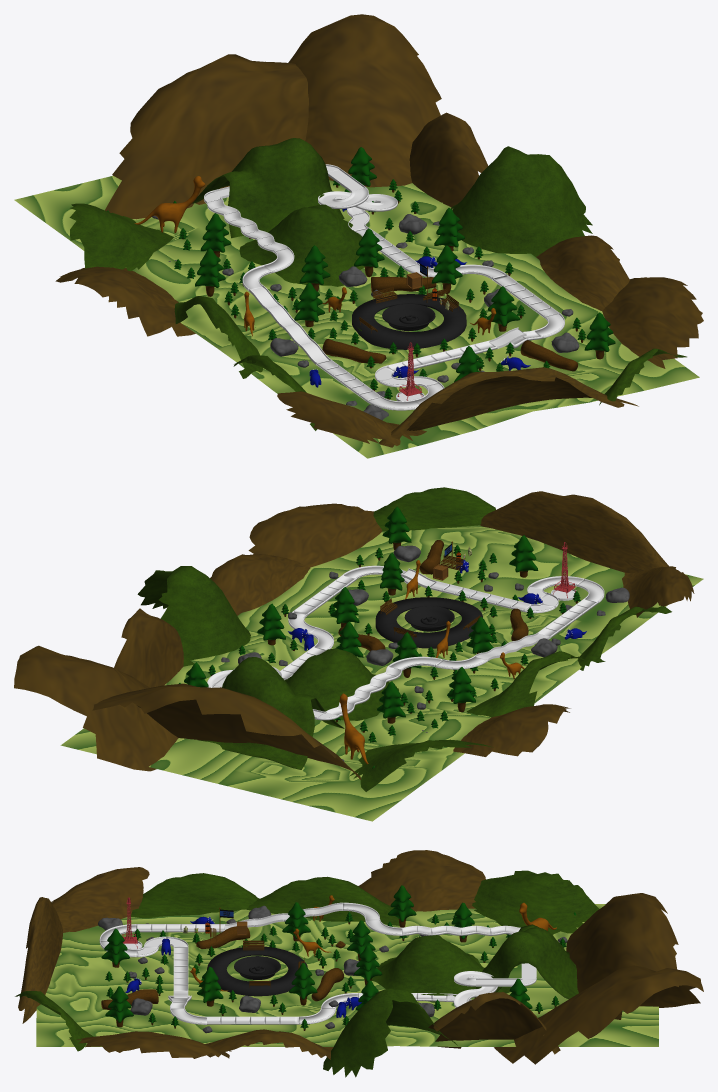
Rendered from PISTA FINAL.fbx.
3 views of the same model, one above another, from view 1: azimuth 30°, elevation 25°; view 2: azimuth 150°, elevation 25°; view 3: azimuth 270°, elevation 25° (orthographic). The views are drawn at different scales.
Visible parts, largest first — view 1: SICA SICA Remeshed.101, SICA SICA Remeshed.155, SICA SICA Remeshed.153, SICA SICA Remeshed.105, SICA SICA Remeshed.154, SICA SICA Remeshed.010, SICA SICA Remeshed.106, SICA SICA Remeshed.001, SICA SICA Remeshed.009, SICA SICA Remeshed.074, SICA SICA Remeshed.152, SICA SICA Remeshed.046 (+20 smaller); view 2: SICA SICA Remeshed.101, SICA SICA Remeshed.153, SICA SICA Remeshed.105, SICA SICA Remeshed.155, SICA SICA Remeshed.106, SICA SICA Remeshed.154, SICA SICA Remeshed.001, SICA SICA Remeshed.010, SICA SICA Remeshed.009, SICA SICA Remeshed.074, SICA SICA Remeshed.152, SICA SICA Remeshed.145 (+18 smaller); view 3: SICA SICA Remeshed.101, SICA SICA Remeshed.105, SICA SICA Remeshed.153, SICA SICA Remeshed.155, SICA SICA Remeshed.046, SICA SICA Remeshed.049, SICA SICA Remeshed.154, SICA SICA Remeshed.009, SICA SICA Remeshed.073, SICA SICA Remeshed.074, SICA SICA Remeshed.057, SICA SICA Remeshed.010 (+19 smaller).
Part boxes in pixels (x1=…): SICA SICA Remeshed.101: x1=14, y1=176, x2=699, y2=458; SICA SICA Remeshed.155: x1=105, y1=54, x2=308, y2=219; SICA SICA Remeshed.153: x1=288, y1=14, x2=441, y2=187; SICA SICA Remeshed.105: x1=204, y1=164, x2=564, y2=410; SICA SICA Remeshed.154: x1=451, y1=146, x2=592, y2=256; SICA SICA Remeshed.010: x1=192, y1=138, x2=344, y2=238; SICA SICA Remeshed.106: x1=379, y1=367, x2=638, y2=447; SICA SICA Remeshed.001: x1=602, y1=277, x2=703, y2=368; SICA SICA Remeshed.009: x1=239, y1=204, x2=386, y2=286; SICA SICA Remeshed.074: x1=409, y1=112, x2=487, y2=207; SICA SICA Remeshed.152: x1=536, y1=235, x2=629, y2=310; SICA SICA Remeshed.046: x1=69, y1=203, x2=173, y2=271; SICA SICA Remeshed.101: x1=60, y1=525, x2=703, y2=821; SICA SICA Remeshed.153: x1=14, y1=645, x2=178, y2=771; SICA SICA Remeshed.105: x1=207, y1=565, x2=604, y2=720; SICA SICA Remeshed.155: x1=92, y1=683, x2=361, y2=779; SICA SICA Remeshed.106: x1=480, y1=491, x2=669, y2=573; SICA SICA Remeshed.154: x1=137, y1=566, x2=250, y2=666; SICA SICA Remeshed.001: x1=248, y1=503, x2=382, y2=567; SICA SICA Remeshed.010: x1=198, y1=657, x2=344, y2=769; SICA SICA Remeshed.009: x1=285, y1=648, x2=398, y2=720; SICA SICA Remeshed.074: x1=114, y1=608, x2=183, y2=687; SICA SICA Remeshed.152: x1=210, y1=554, x2=310, y2=615; SICA SICA Remeshed.145: x1=373, y1=487, x2=495, y2=531; SICA SICA Remeshed.101: x1=36, y1=904, x2=658, y2=1046; SICA SICA Remeshed.105: x1=99, y1=902, x2=536, y2=1024; SICA SICA Remeshed.153: x1=494, y1=965, x2=703, y2=1064; SICA SICA Remeshed.155: x1=566, y1=893, x2=678, y2=1019; SICA SICA Remeshed.046: x1=472, y1=870, x2=599, y2=934; SICA SICA Remeshed.049: x1=358, y1=850, x2=485, y2=911; SICA SICA Remeshed.154: x1=323, y1=988, x2=457, y2=1077; SICA SICA Remeshed.009: x1=371, y1=935, x2=511, y2=1002; SICA SICA Remeshed.073: x1=51, y1=867, x2=149, y2=932; SICA SICA Remeshed.074: x1=428, y1=992, x2=560, y2=1054; SICA SICA Remeshed.057: x1=129, y1=873, x2=259, y2=918; SICA SICA Remeshed.010: x1=474, y1=924, x2=578, y2=999.
Bounding box in the file's own units: 46974 × 10167 × 66727.
Materials: 23 (15 with a texture image).
